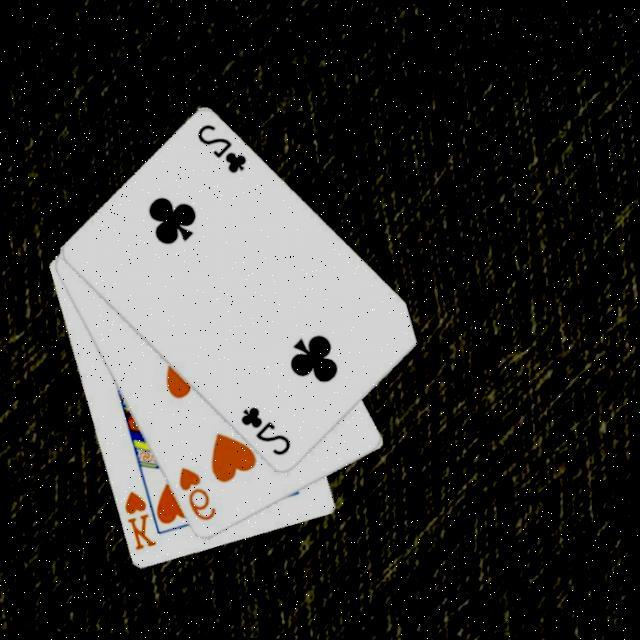2C: (190, 118, 250, 176), (234, 402, 294, 458)
6H: (172, 462, 220, 524)
KH: (118, 487, 159, 553)
